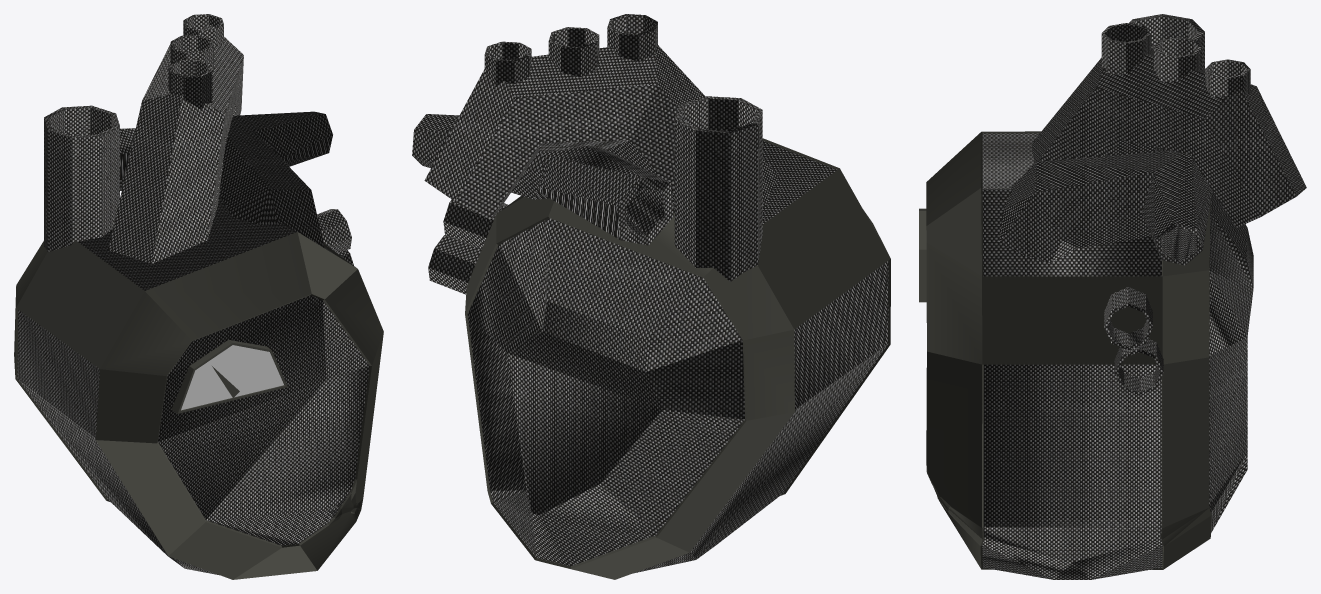
Rendered from Mechanical Heart.fbx.
3 renders of one model, left to right at view 1: azimuth 30°, elevation 25°; view 2: azimuth 150°, elevation 25°; view 3: azimuth 270°, elevation 25°, orthographic. The views are drawn at different scales.
Parts seen in each view (by area): view 1: Heart_1, Heart, Cylinder_1, Cylinder; view 2: Heart_1, Heart; view 3: Heart_1, Heart, Cylinder.
Part boxes in pixels (x1,y1,x2,y2): Heart_1: (17,14,369,575); Heart: (14,232,383,579); Cylinder_1: (181,345,283,410); Cylinder: (171,339,287,413); Heart_1: (412,14,888,573); Heart: (465,138,890,579); Heart_1: (982,14,1306,579); Heart: (926,131,1211,569); Cylinder: (919,208,926,302).
Bounding box in the file's own units: 11.66 × 16.22 × 11.29.
3 materials, 1 textured.
